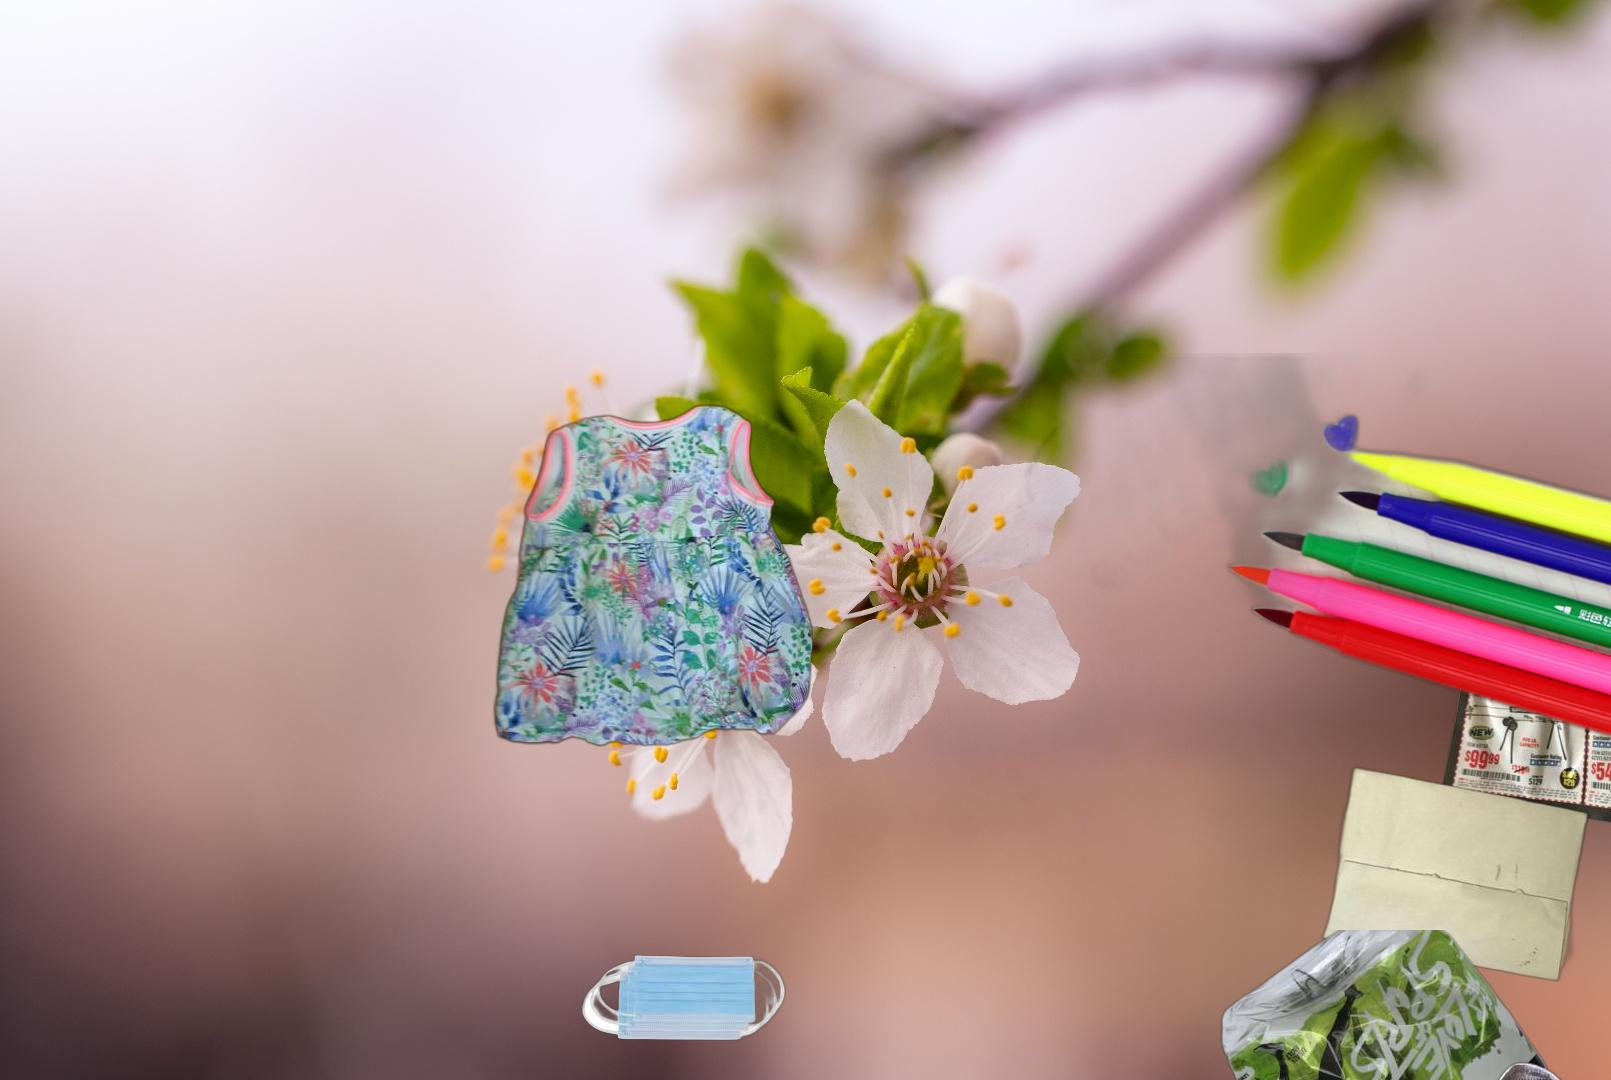clothes: (490, 400, 815, 750), (1363, 1058, 1611, 1080)
paper: (1319, 764, 1593, 984), (1434, 518, 1611, 830)
penholder: (866, 353, 1611, 876)
plastic-bottles: (1217, 931, 1592, 1080)
trash: (580, 952, 788, 1043)
